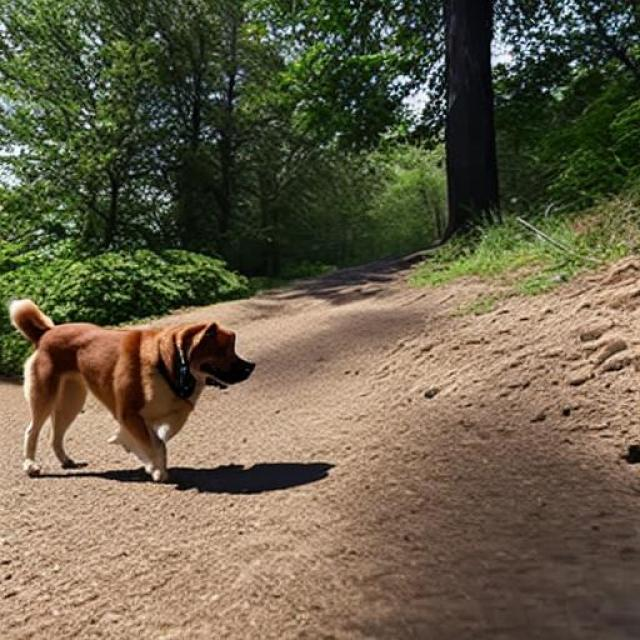Dog: (10, 298, 256, 481)
